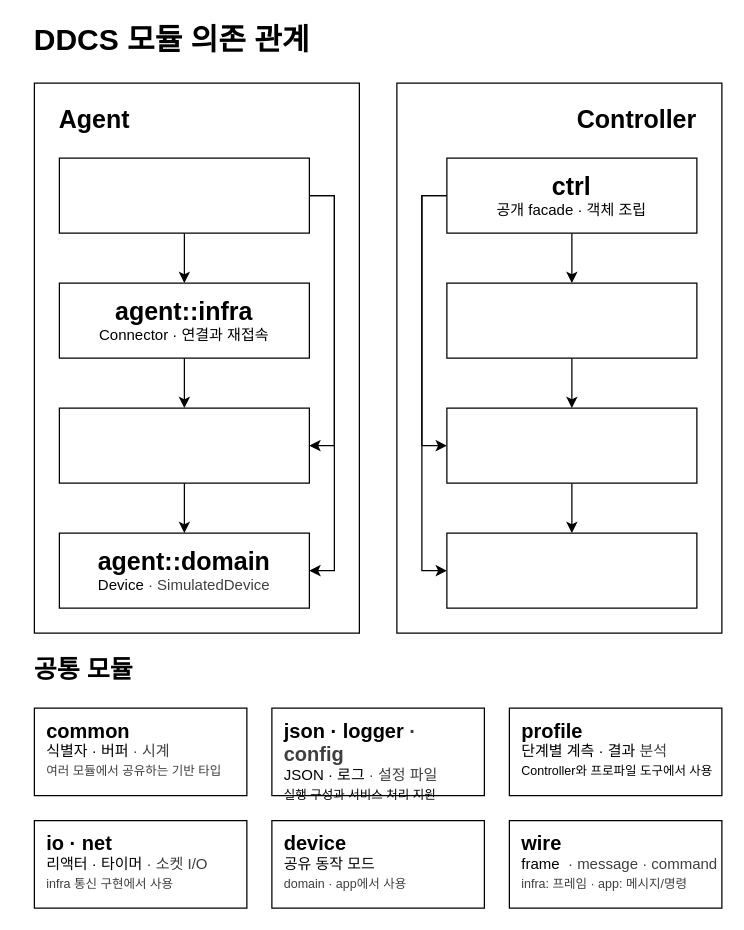
The diagram is 744 pixels wide and 930 high, and some of its shapes have lost their labels. The shapes that lost their labels are listed below. From the top down, each one's box as (x1, y1, x2, y2) in pixels, then its label:
(58, 157, 309, 233): agent 공개 facade · 객체 조립
(446, 282, 697, 358): ctrl::infra Acceptor · 메트릭 서버
(58, 407, 309, 483): agent::app 등록 · 상태 보고 · 명령 적용
(446, 407, 697, 483): ctrl::app 등록 · 상태 · 정책 · 명령
(446, 532, 697, 608): ctrl::domain DeviceShadow · GroupPolicy
